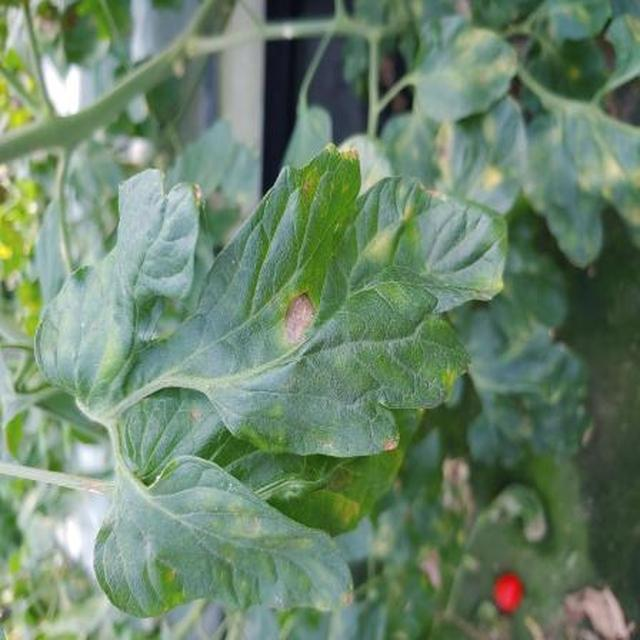Leaf Mold: (149, 95, 640, 640)
